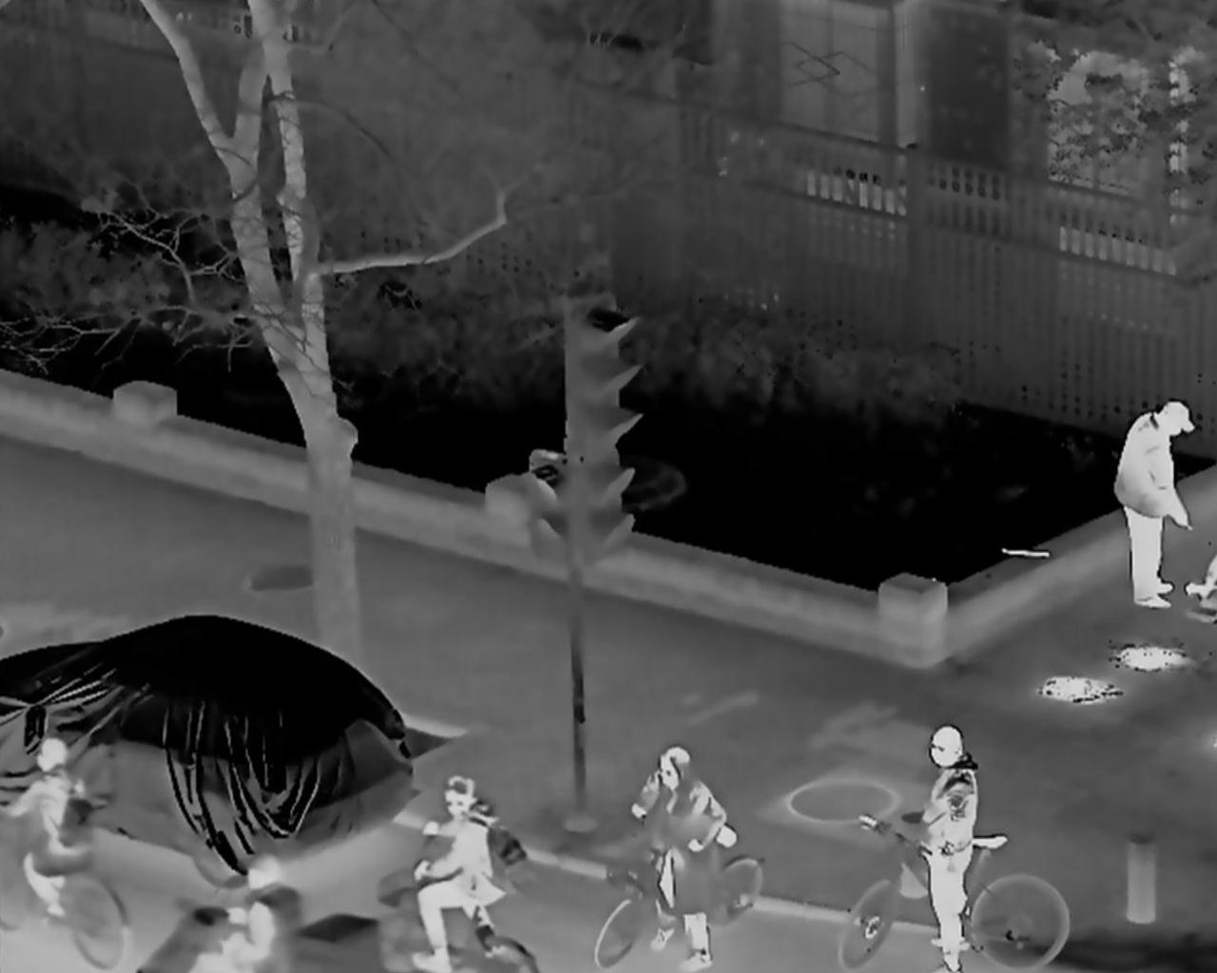person: (415, 773, 520, 973), (632, 745, 718, 970), (1110, 399, 1196, 608), (3, 738, 90, 925), (921, 721, 982, 973), (218, 854, 298, 973)
